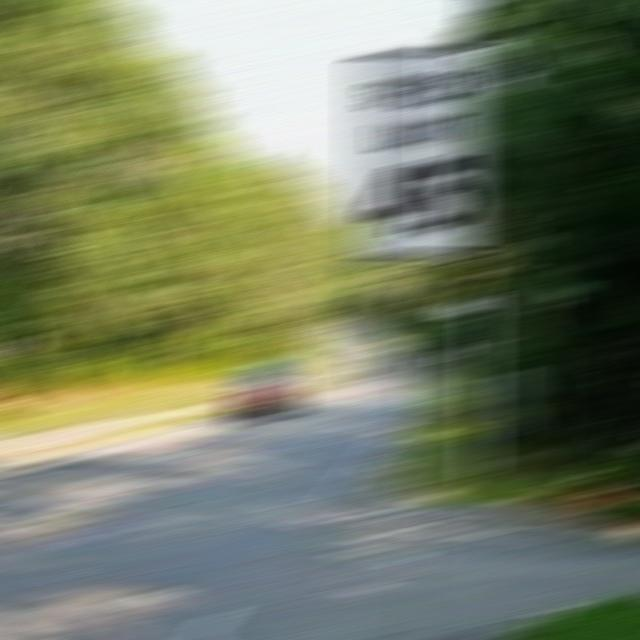speedLimit45: (351, 56, 480, 252)
